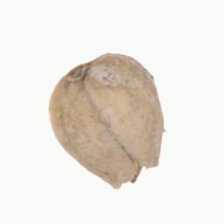L1: (55, 55, 108, 85), (113, 158, 160, 190)
L2: (49, 52, 164, 190)
